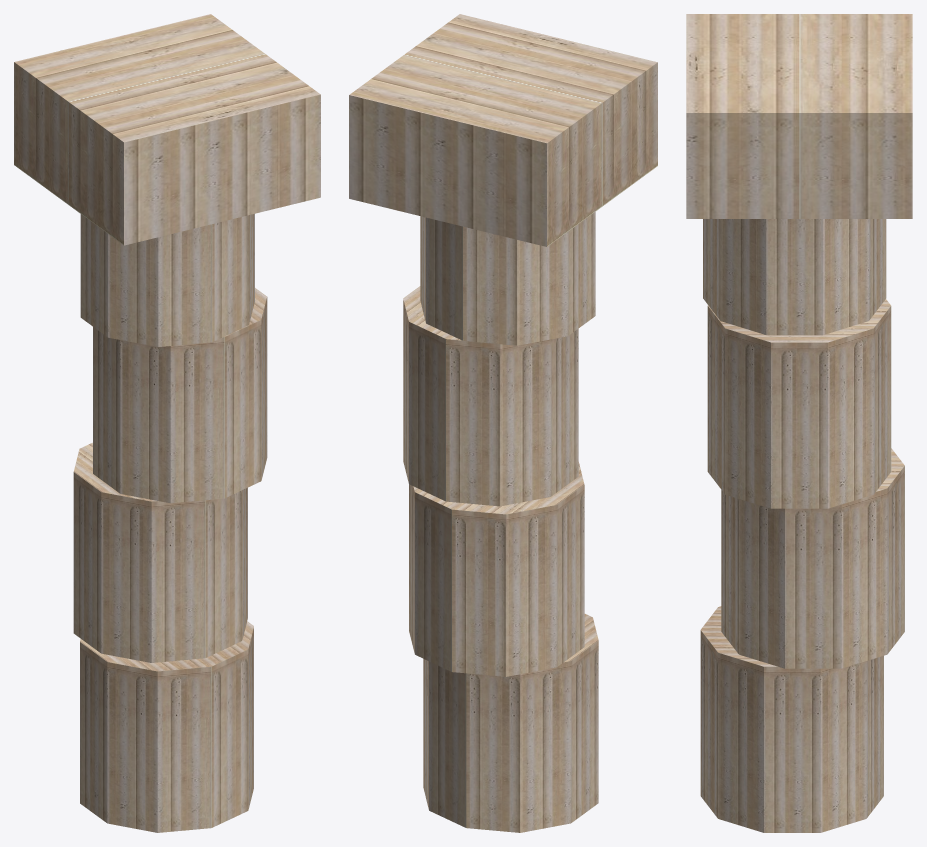
File: pillar.obj
3 views of the same model, side by side, from view 1: azimuth 30°, elevation 25°; view 2: azimuth 150°, elevation 25°; view 3: azimuth 270°, elevation 25° (orthographic). The views are drawn at different scales.
Parts seen in each view (by area): view 1: Cube, Cylinder, Cylinder.001, Cylinder.002, Cylinder.003; view 2: Cube, Cylinder.001, Cylinder.002, Cylinder, Cylinder.003; view 3: Cube, Cylinder.002, Cylinder, Cylinder.001, Cylinder.003.
Boxes of the visible parts, box(x1,y1,x2,y2) form: Cube: box(14, 14, 320, 245); Cylinder: box(80, 621, 253, 832); Cylinder.001: box(73, 442, 247, 662); Cylinder.002: box(93, 288, 267, 503); Cylinder.003: box(80, 214, 254, 346); Cube: box(349, 14, 657, 246); Cylinder.001: box(409, 462, 584, 676); Cylinder.002: box(403, 286, 578, 506); Cylinder: box(423, 614, 598, 832); Cylinder.003: box(420, 212, 595, 345); Cube: box(686, 14, 912, 218); Cylinder.002: box(707, 299, 891, 508); Cylinder: box(700, 606, 883, 832); Cylinder.001: box(721, 448, 904, 668); Cylinder.003: box(703, 219, 886, 335).
Size of the model in its own units: 0.6375 by 2.21 by 0.6172.
